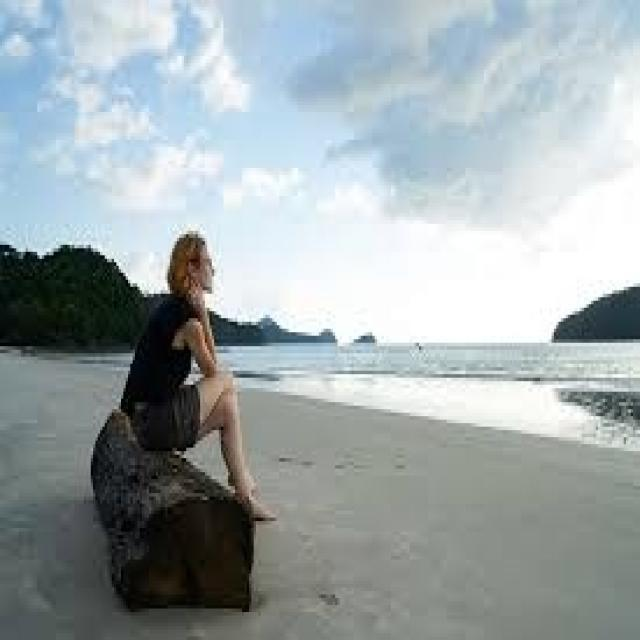sitting: (118, 191, 281, 533)
